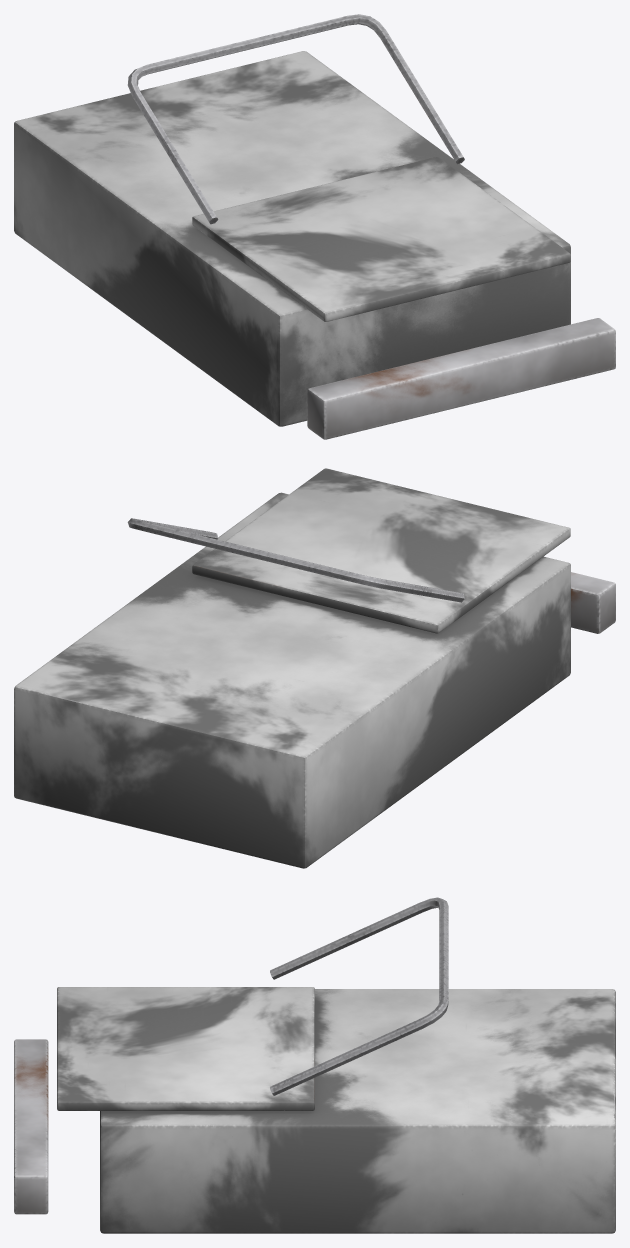
The model's file is t_pipe.glb.
3 views of the same model, one above another, from view 1: azimuth 30°, elevation 25°; view 2: azimuth 150°, elevation 25°; view 3: azimuth 270°, elevation 25° (orthographic). The views are drawn at different scales.
Visible parts, largest first — view 1: body_paint2, panel_hood, panel_bumper_F, body_metal_bare; view 2: body_paint2, panel_hood, body_metal_bare, panel_bumper_F; view 3: body_paint2, panel_hood, panel_bumper_F, body_metal_bare.
Boxes of the visible parts, left/top/right/bottom form: body_paint2: left=14, top=51, right=570, bottom=426; panel_hood: left=192, top=157, right=570, bottom=321; panel_bumper_F: left=307, top=318, right=615, bottom=439; body_metal_bare: left=127, top=14, right=464, bottom=224; body_paint2: left=14, top=492, right=570, bottom=868; panel_hood: left=192, top=468, right=570, bottom=633; body_metal_bare: left=127, top=518, right=464, bottom=602; panel_bumper_F: left=571, top=572, right=615, bottom=633; body_paint2: left=100, top=989, right=615, bottom=1233; panel_hood: left=57, top=987, right=314, bottom=1110; panel_bumper_F: left=14, top=1039, right=48, bottom=1214; body_metal_bare: left=270, top=897, right=448, bottom=1095.
Bounding box in the file's own units: 1.9 × 1.38 × 3.5.
6 materials, 6 textured.
